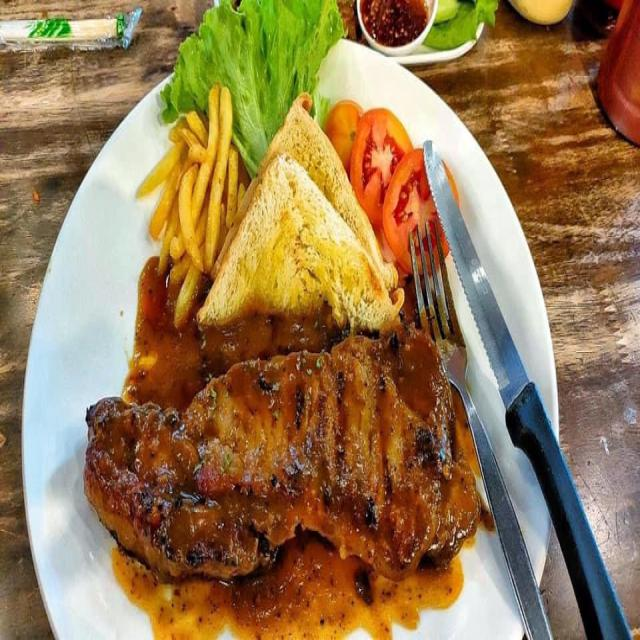Carbohydrate: (137, 85, 397, 338)
Protein: (84, 331, 482, 582)
Steak: (45, 8, 552, 640)
Vegetable: (162, 0, 464, 280)
